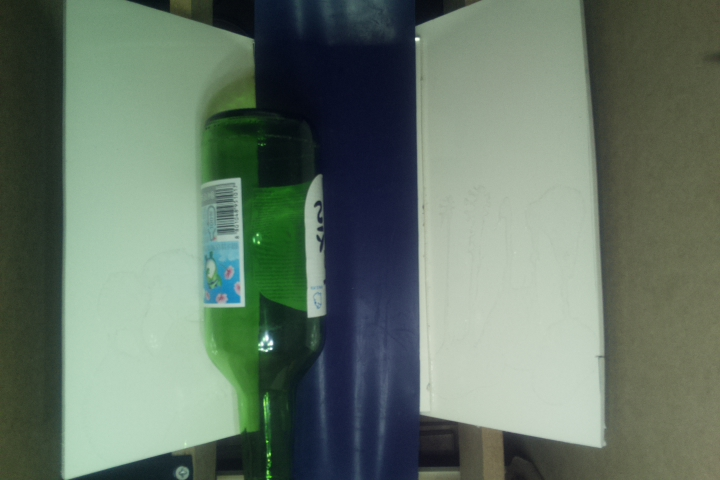soju: (196, 107, 332, 480)
